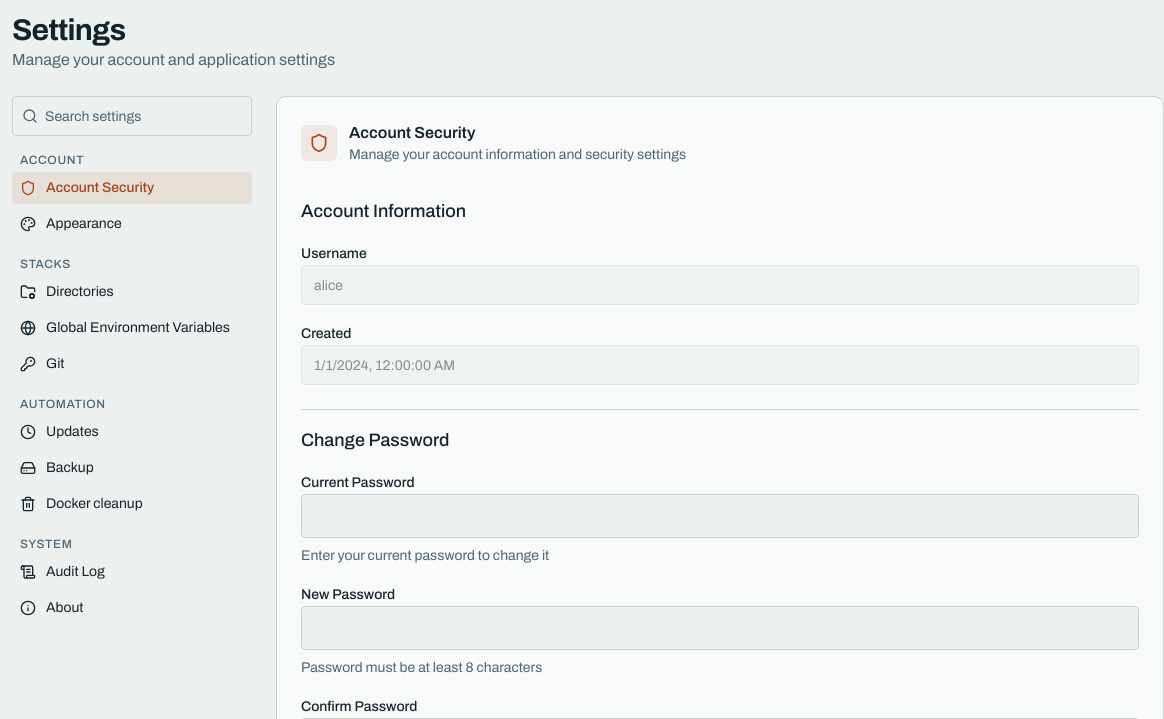
SettingsPage › section routing › filters the sidebar to matching sections when searching
Type "backup" into the field labelled "Search settings" at (132,116), box [12,96,252,136]
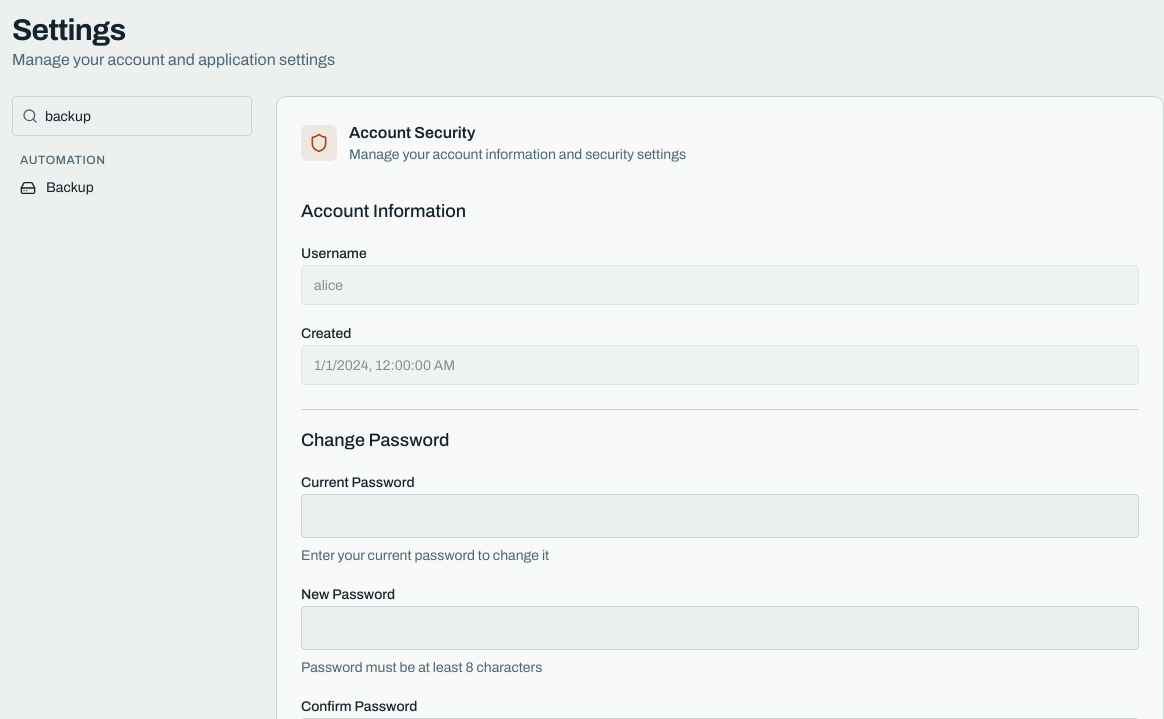
Expected: the link "Backup" is shown, [20,180,94,196]
Expected: the link "Appearance" is gone
